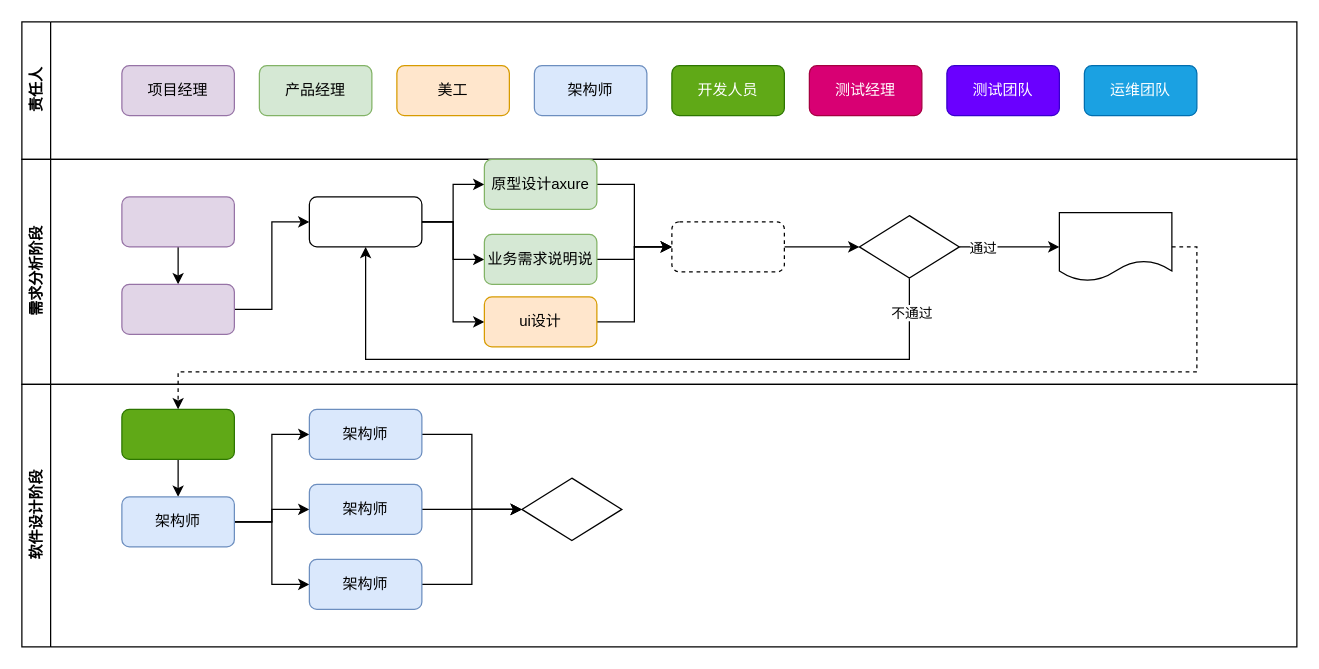
The diagram is 1319 pixels wide and 669 high, and some of its shapes have lost their labels. The shapes that lost their labels are listed below. From the top down, each one's centre as x and y in pixels, then its label:
At [177,221]: "项目启动".
At [365,221]: "需求调研".
At [727,246]: "用户确认".
At [908,246]: "需求评审".
At [1115,246]: "文档存档git".
At [177,308]: "立项".
At [177,433]: "分析需求".
At [571,509]: "架构评审".
